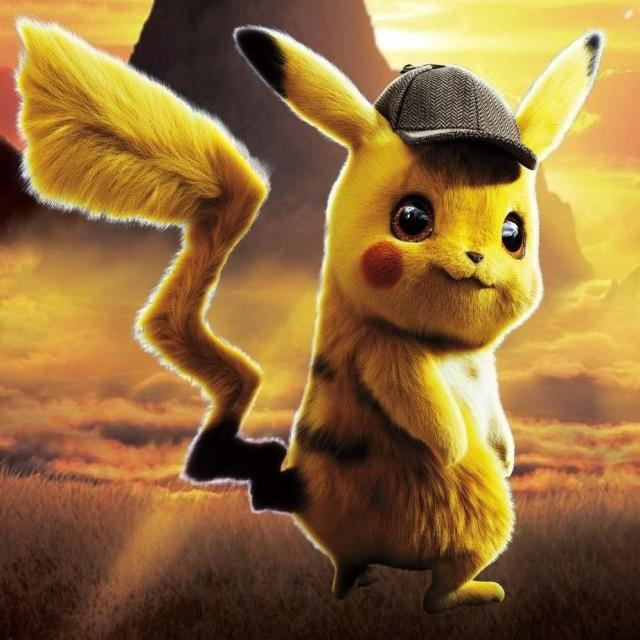pikachu: (20, 24, 603, 603)
